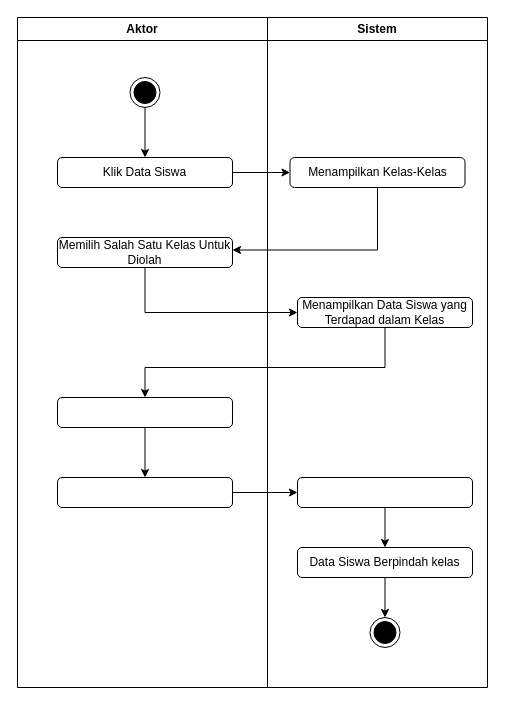
Image size: 505x705. Some labels were removed from this diagram. The centre of each missing label's shape, as x and y in pixels:
"Memilih Salah Satu Kelas" belongs at point (144, 412).
"Memproes Data Kenaikan" belongs at point (384, 492).
"Menaikan Kelas Seorang/Semua SIswa" belongs at point (144, 492).
